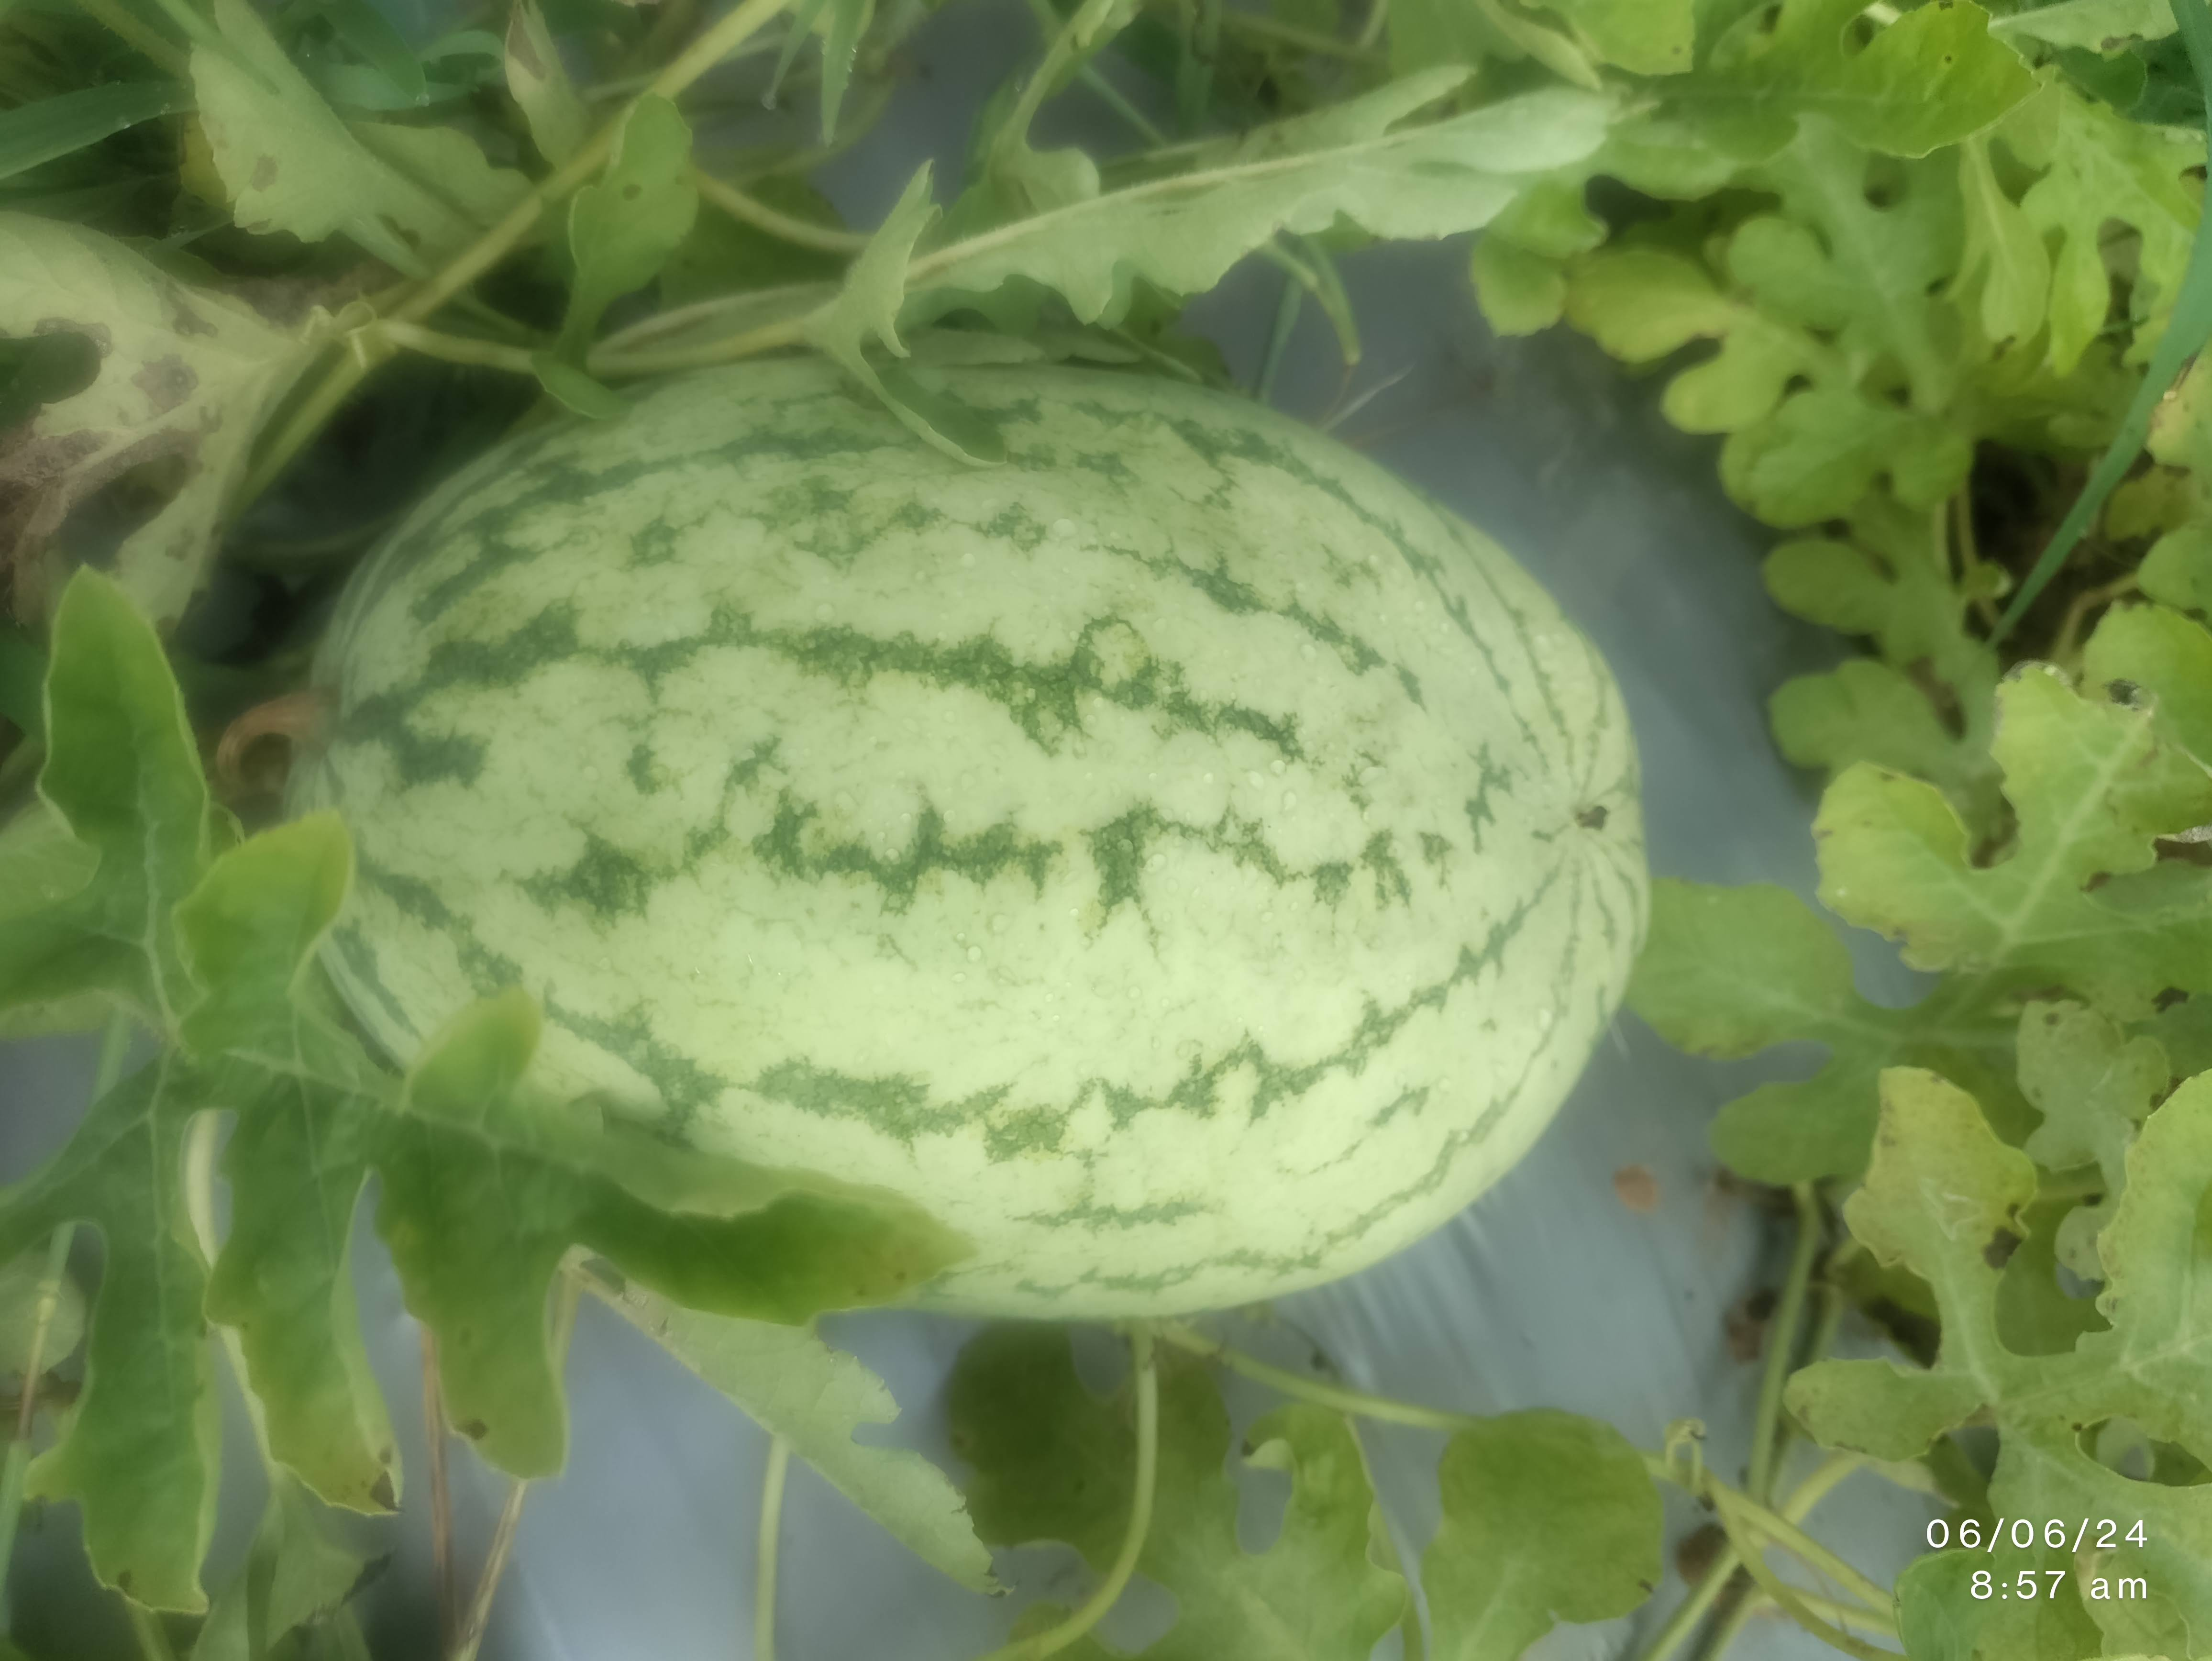good-to-harvest: (260, 194, 1661, 1387)
